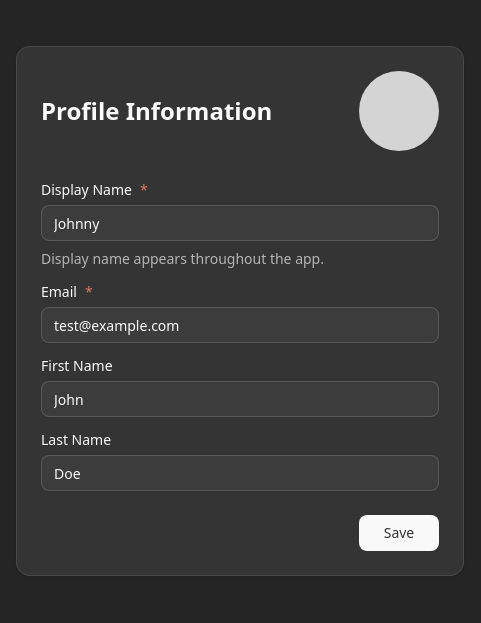
Test: Account › Error Handling › shows fallback error message when saving account throws non-error
The width and height of the screenshot is (481, 623).
Replace the text in the field labelled "Display Name" with "Updated Name" at x=240, y=223, box [41, 205, 439, 241]
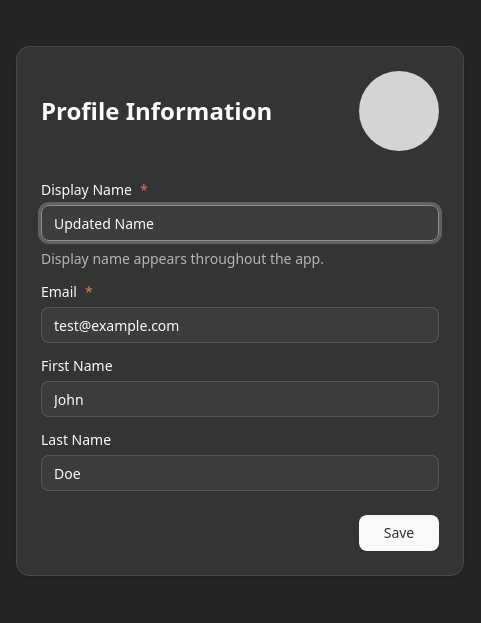
Click the button "Save" at x=399, y=533, box [359, 515, 439, 551]
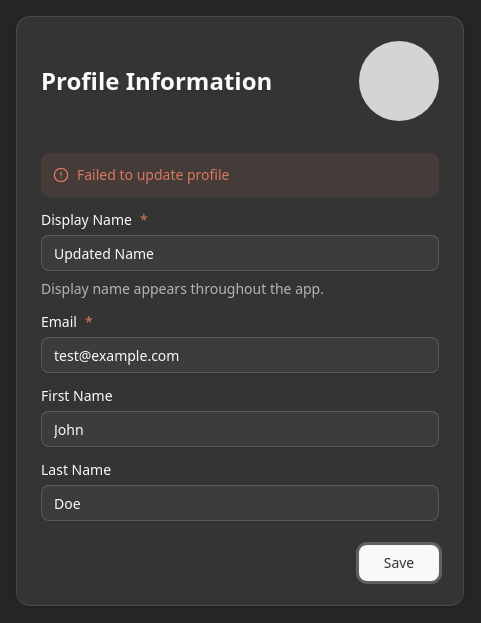
Result: the message reads "Failed to update profile" at [77, 165, 230, 184]
